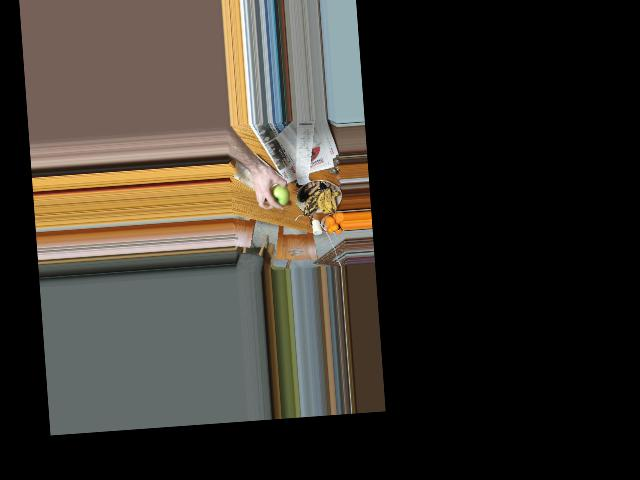apple: (265, 179, 289, 210)
